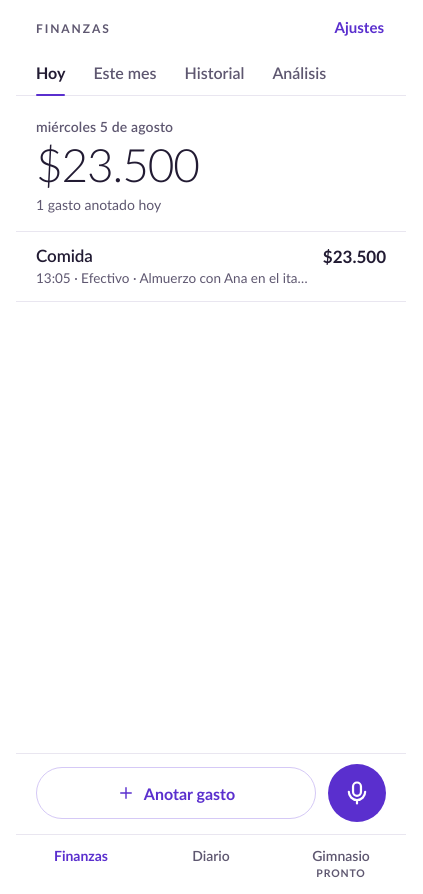
Test: B1 / 17.1 — tapping an expense opens the detail, not the form › opens the read-only detail from Hoy — the surface that worked the other way
This screenshot has width=423, height=894.
Step 1. Click the text "Comida" → (64, 256), box [36, 245, 93, 266]
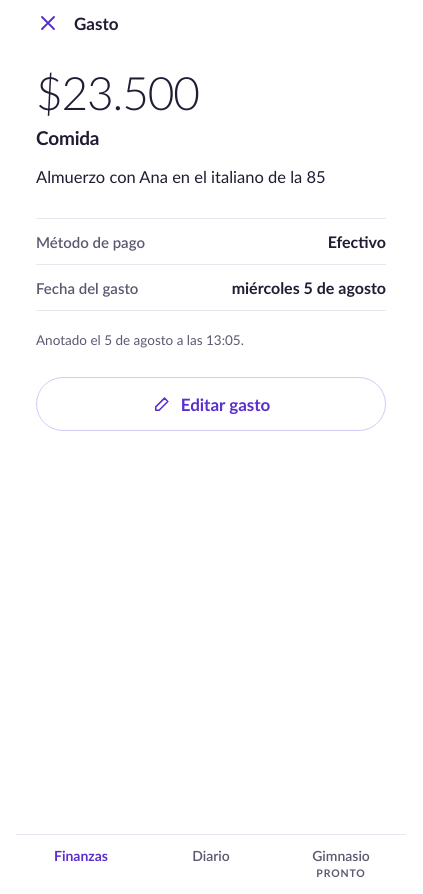
Expected: the text "$23.500" is shown, [36, 65, 199, 120]
Result: the button "Editar gasto" is shown at [36, 377, 386, 431]
